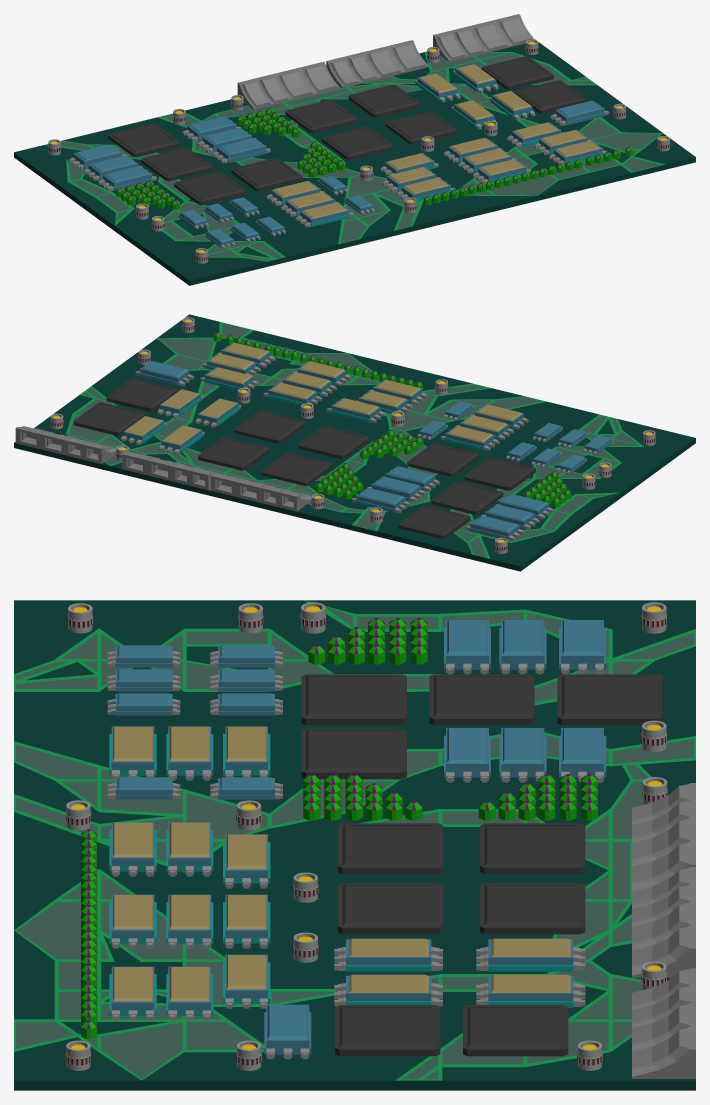
3 views of the same model, one above another, from view 1: azimuth 30°, elevation 25°; view 2: azimuth 150°, elevation 25°; view 3: azimuth 270°, elevation 25° (orthographic). The views are drawn at different scales.
Parts seen in each view (by area): view 1: Cube.072; view 2: Cube.072; view 3: Cube.072.
Part boxes in pixels (bbox=[...]): Cube.072: bbox=[14, 14, 695, 285]; Cube.072: bbox=[14, 314, 695, 571]; Cube.072: bbox=[14, 600, 695, 1090].
Bounding box in the file's own units: 4000 × 153 × 2400.
